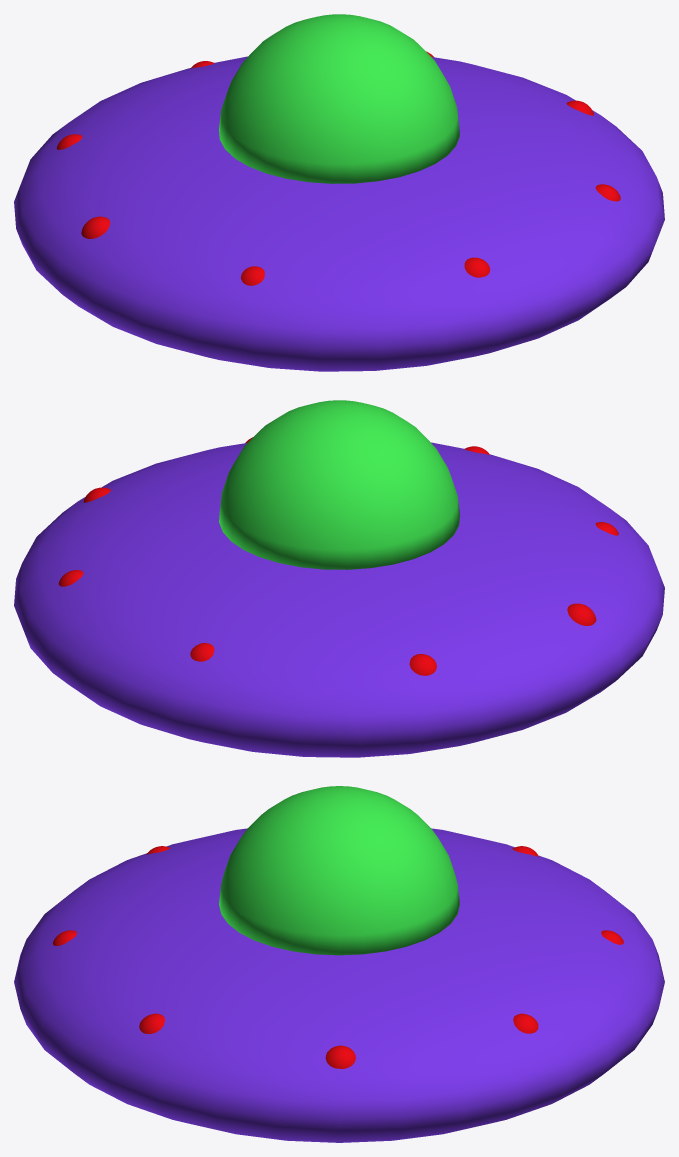
Rendered from Alien_Ship.fbx.
3 renders of one model, top to bottom at view 1: azimuth 30°, elevation 25°; view 2: azimuth 150°, elevation 25°; view 3: azimuth 270°, elevation 25°, orthographic.
Parts seen in each view (by area): view 1: Sphere, Sphere.001; view 2: Sphere, Sphere.001; view 3: Sphere, Sphere.001, Sphere.004.
Boxes of the visible parts, x1,y1,x2,y2 form: Sphere: (14,56,664,371); Sphere.001: (219,14,459,183); Sphere: (14,442,664,757); Sphere.001: (219,400,459,569); Sphere: (14,828,664,1142); Sphere.001: (219,786,459,955); Sphere.004: (325,1045,355,1068).
Size of the model in its own units: 200 by 91.06 by 200.
